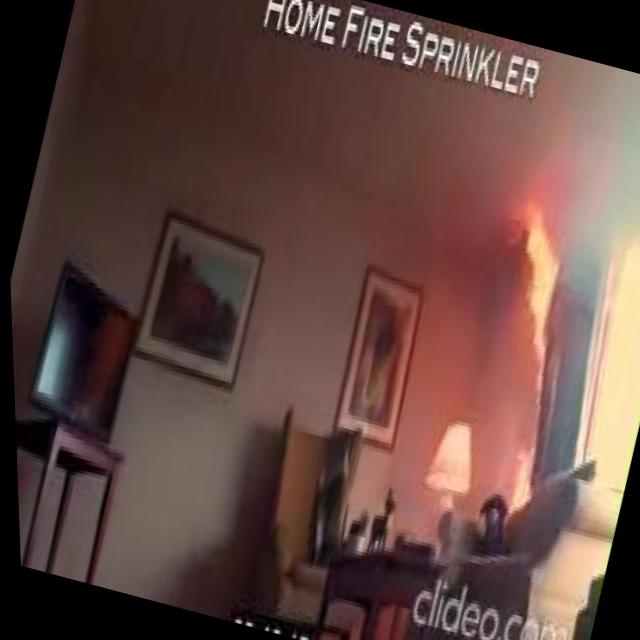fire: (464, 173, 587, 403), (486, 448, 545, 519)
